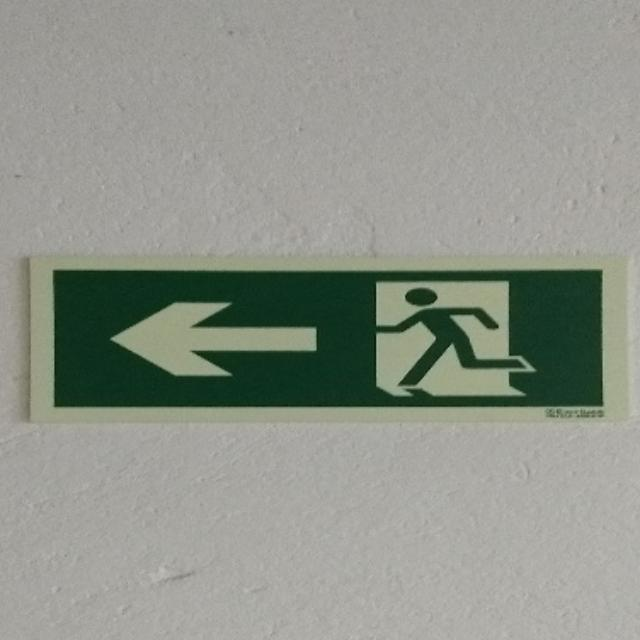exit: (31, 257, 626, 420)
